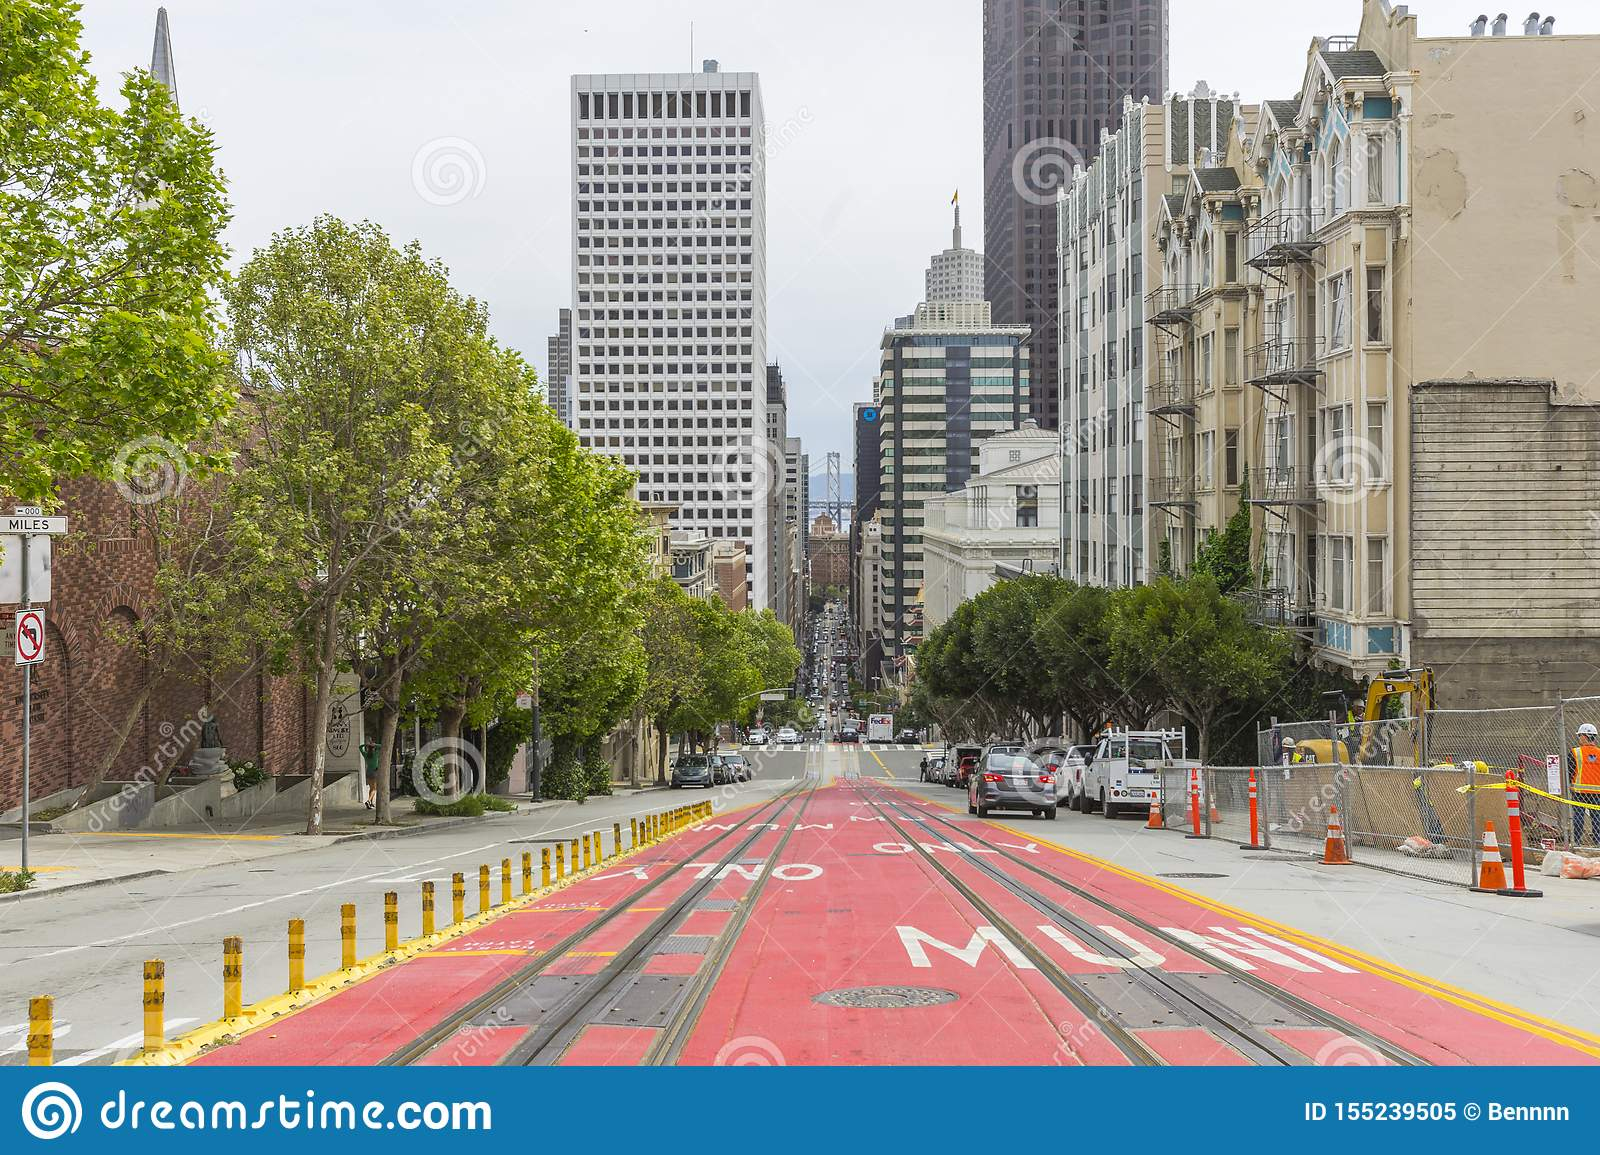tree: (123, 209, 545, 836)
